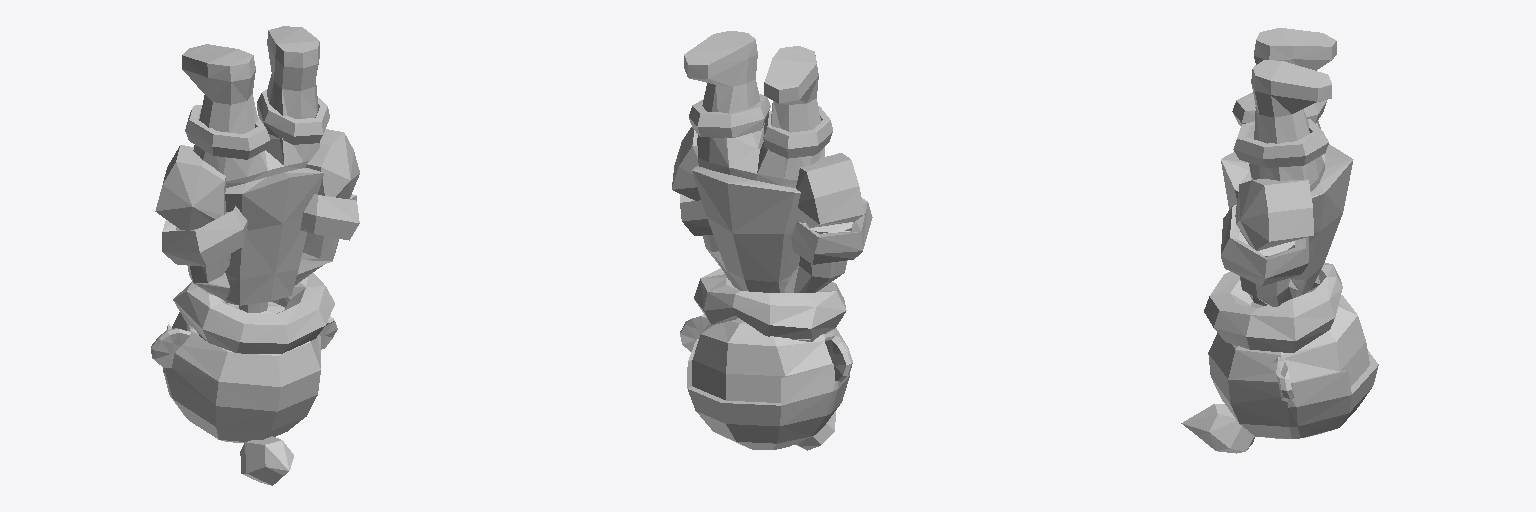
File: eikastanding_000389.obj
The picture shows the model from 3 angles: view 1: azimuth 30°, elevation 25°; view 2: azimuth 150°, elevation 25°; view 3: azimuth 270°, elevation 25°; orthographic projection.
Parts seen in each view (by area): view 1: Cylinder; view 2: Cylinder; view 3: Cylinder.
Part boxes in pixels (left/top/right/bottom): Cylinder: left=151, top=26, right=359, bottom=485; Cylinder: left=672, top=31, right=872, bottom=450; Cylinder: left=1181, top=28, right=1378, bottom=453.
Bounding box in the file's own units: 27.76 × 55.31 × 24.02.